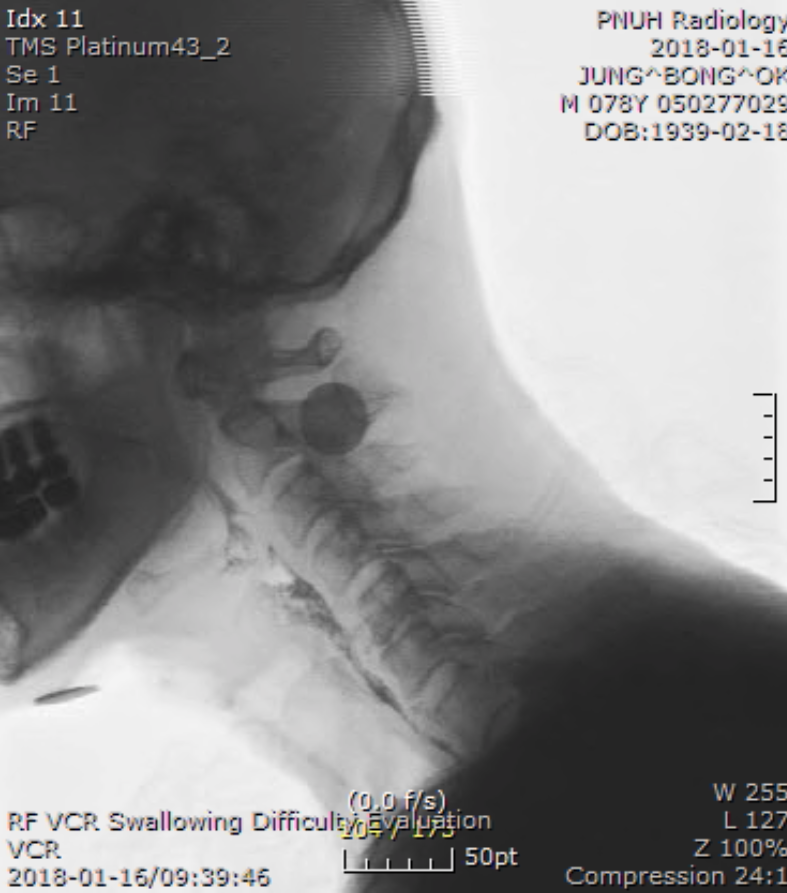dros: (257, 559, 334, 634)
food: (269, 567, 367, 676)
uros: (206, 492, 260, 581)
